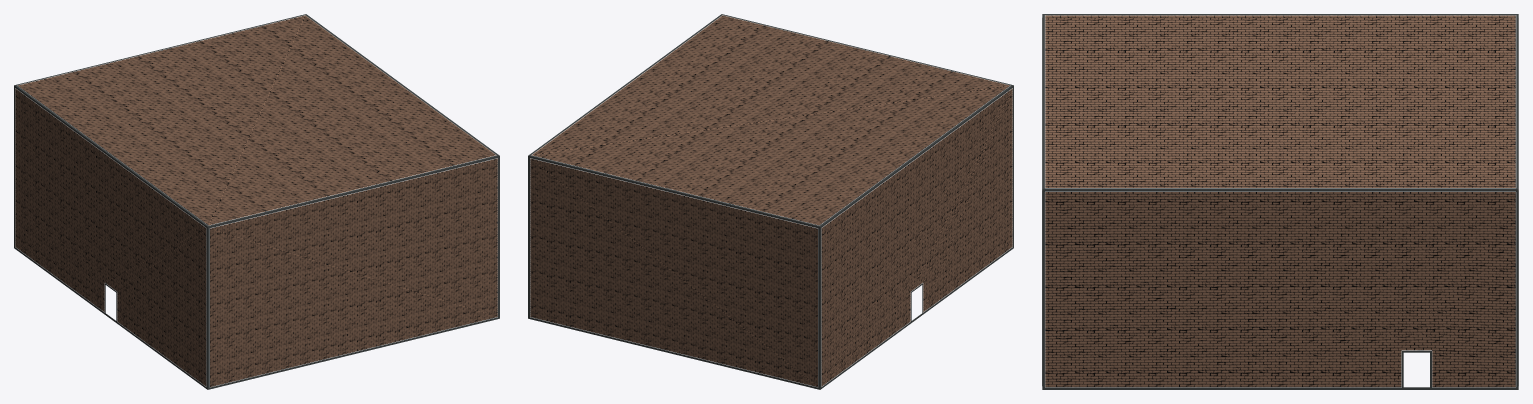
Rendered from building_4.fbx.
3 renders of one model, left to right at view 1: azimuth 30°, elevation 25°; view 2: azimuth 150°, elevation 25°; view 3: azimuth 270°, elevation 25°, orthographic. The views are drawn at different scales.
Visible parts, largest first — view 1: Cube.015; view 2: Cube.015; view 3: Cube.015.
Boxes of the visible parts, x1,y1,x2,y2 form: Cube.015: (14, 14, 499, 389); Cube.015: (528, 14, 1013, 389); Cube.015: (1042, 14, 1518, 389).
Bounding box in the file's own units: 3004 × 1602 × 3447.
